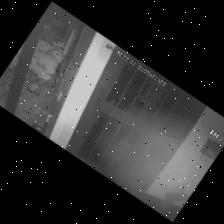person: (28, 49, 64, 91)
